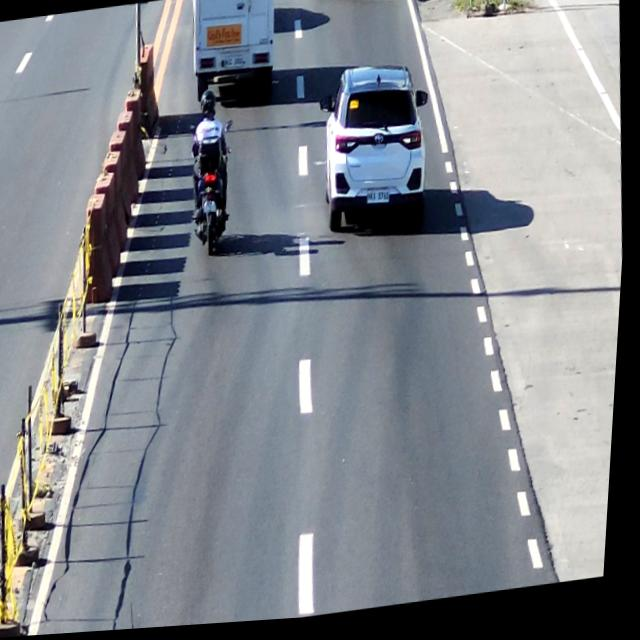Car: (317, 62, 440, 247), (188, 0, 282, 107), (317, 0, 392, 4)
License-Plate: (367, 186, 396, 217), (222, 53, 248, 73), (203, 201, 224, 218)
Motorcycle: (183, 116, 244, 266)
